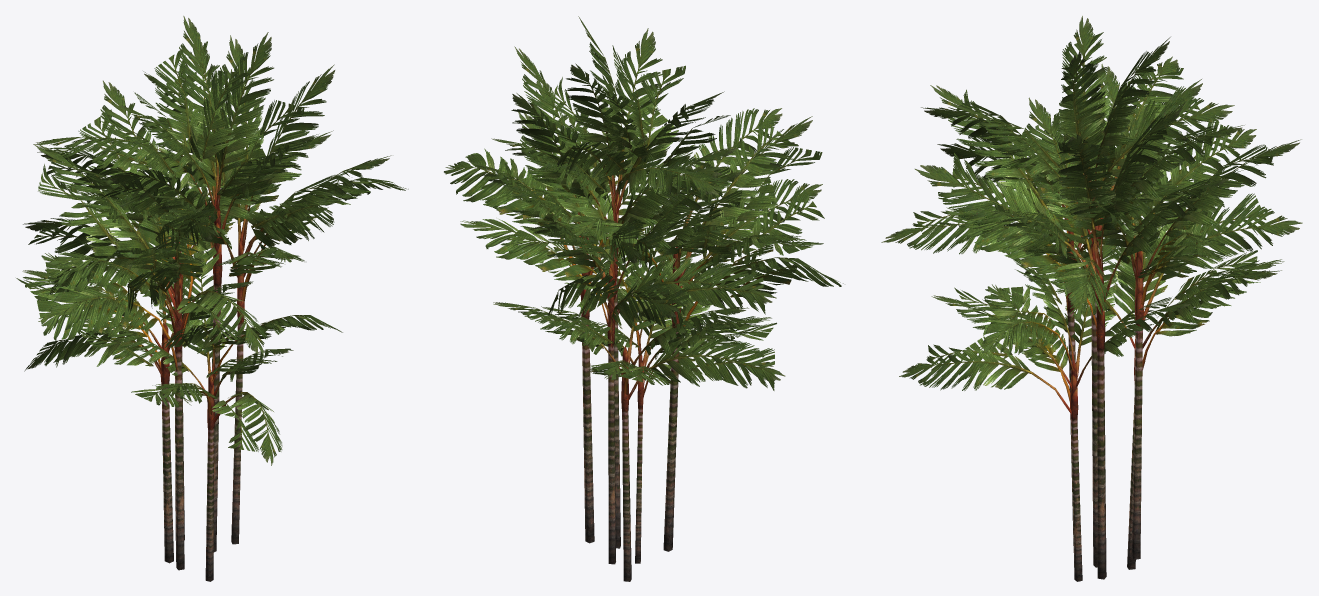
File: MK4_OrangePalm3.DAE
3 views of the same model, side by side, from view 1: azimuth 30°, elevation 25°; view 2: azimuth 150°, elevation 25°; view 3: azimuth 270°, elevation 25° (orthographic). The views are drawn at different scales.
Visible parts, largest first — view 1: MK4_OrangePalm200, MK4_OrangePalm50, MK4_OrangePalm100; view 2: MK4_OrangePalm200, MK4_OrangePalm50, MK4_OrangePalm100; view 3: MK4_OrangePalm200, MK4_OrangePalm50, MK4_OrangePalm100.
Part boxes in pixels (x1,y1,x2,y2): MK4_OrangePalm200: (22, 16, 408, 581); MK4_OrangePalm50: (16, 49, 358, 451); MK4_OrangePalm100: (25, 19, 388, 551); MK4_OrangePalm200: (444, 16, 836, 581); MK4_OrangePalm50: (479, 45, 843, 390); MK4_OrangePalm100: (471, 35, 820, 384); MK4_OrangePalm200: (881, 16, 1302, 581); MK4_OrangePalm50: (913, 32, 1272, 379); MK4_OrangePalm100: (886, 26, 1298, 566).
Size of what is drawn, in the model's own units: 31.43 by 28.32 by 41.24.
